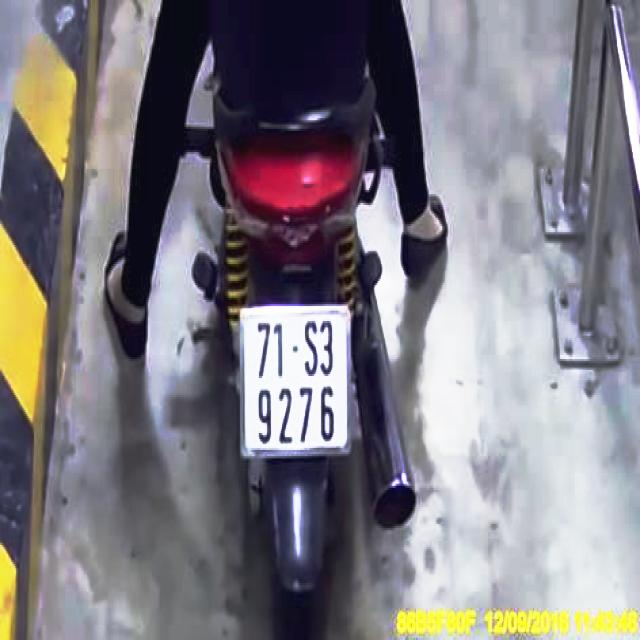license_plate: (242, 307, 351, 453)
